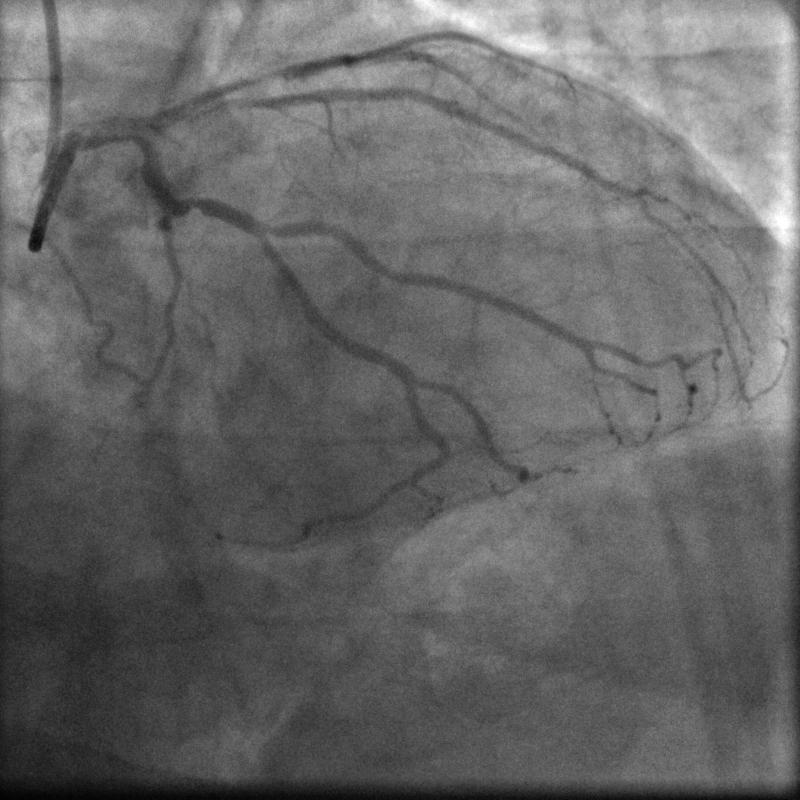Stenosis: (183, 194, 207, 217)
